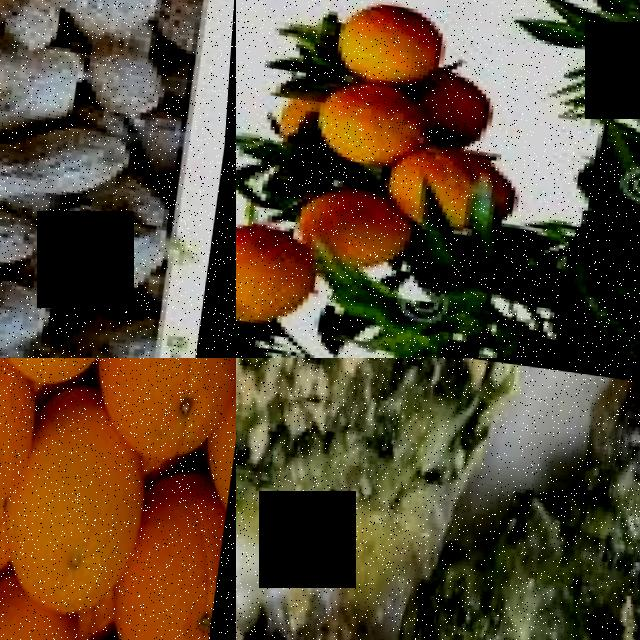orange: (13, 422, 149, 616), (127, 478, 233, 640), (118, 358, 236, 457), (335, 0, 455, 82), (236, 220, 324, 327), (304, 186, 411, 266), (323, 78, 416, 163), (0, 597, 96, 640)
peanuts: (0, 110, 135, 217), (41, 294, 163, 358), (0, 263, 53, 358), (0, 182, 54, 271), (32, 0, 166, 25)
